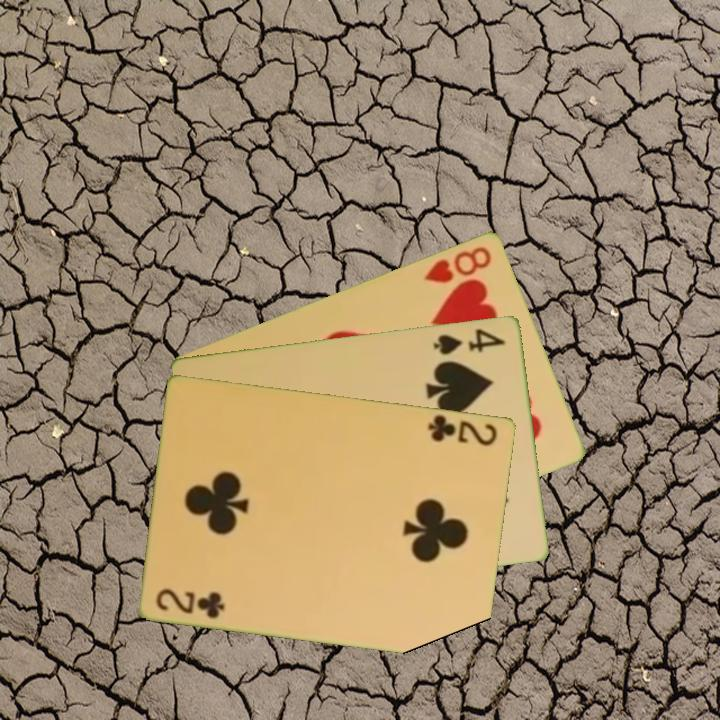2c: (425, 410, 501, 449), (153, 584, 229, 621)
4s: (430, 324, 509, 357)
8h: (421, 242, 495, 286)
